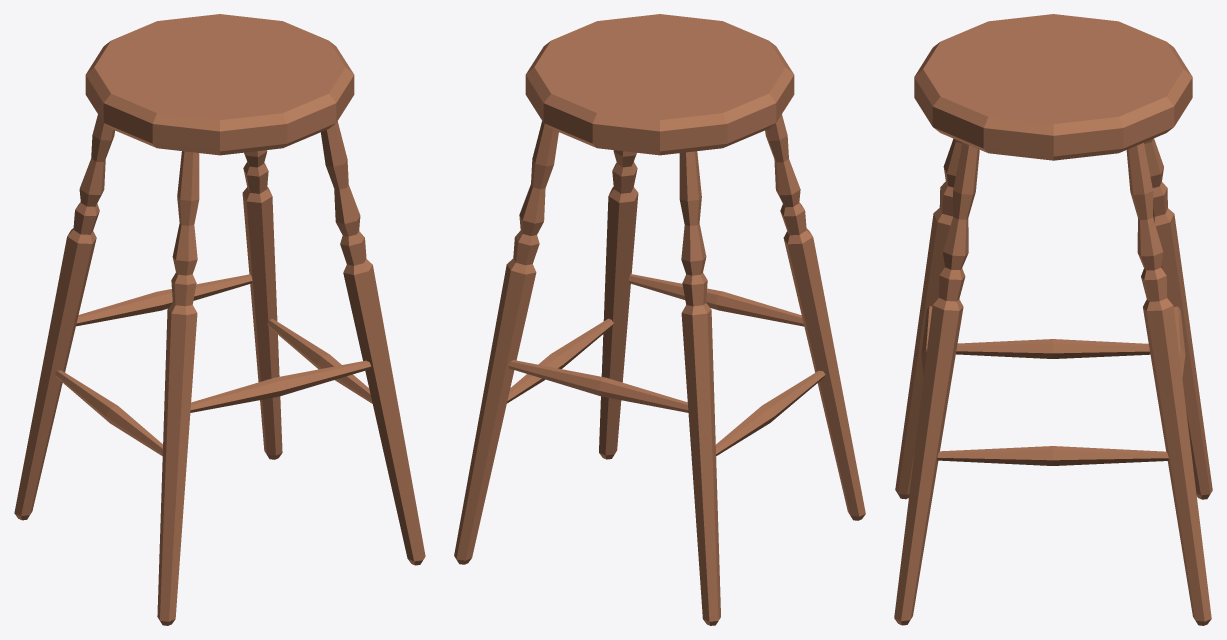
Rendered from Wooden Stool.fbx.
3 views of the same model, side by side, from view 1: azimuth 30°, elevation 25°; view 2: azimuth 150°, elevation 25°; view 3: azimuth 270°, elevation 25° (orthographic). The views are drawn at different scales.
Visible parts, largest first — view 1: Wooden Stool; view 2: Wooden Stool; view 3: Wooden Stool.
Part boxes in pixels (x1,y1,x2,y2): Wooden Stool: [14, 14, 425, 625]; Wooden Stool: [454, 14, 865, 625]; Wooden Stool: [894, 14, 1212, 625].
Size of the model in its own units: 42.56 by 72.39 by 42.56.
